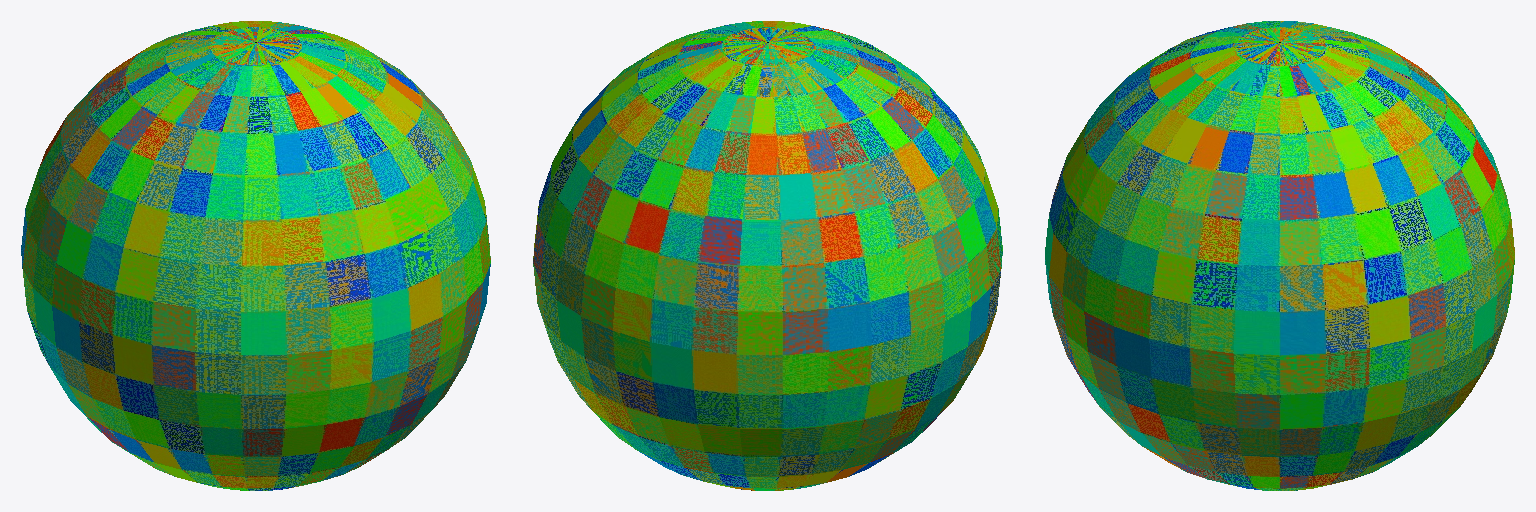
3 renders of one model, left to right at view 1: azimuth 30°, elevation 25°; view 2: azimuth 150°, elevation 25°; view 3: azimuth 270°, elevation 25°, orthographic.
Visible parts, largest first — view 1: Sphere; view 2: Sphere; view 3: Sphere.
Part boxes in pixels (left/top/right/bottom): Sphere: left=21, top=21, right=490, bottom=490; Sphere: left=533, top=21, right=1002, bottom=490; Sphere: left=1045, top=21, right=1514, bottom=490.
Bounding box in the file's own units: 2 × 2 × 2.
Materials: 1 (1 with a texture image).